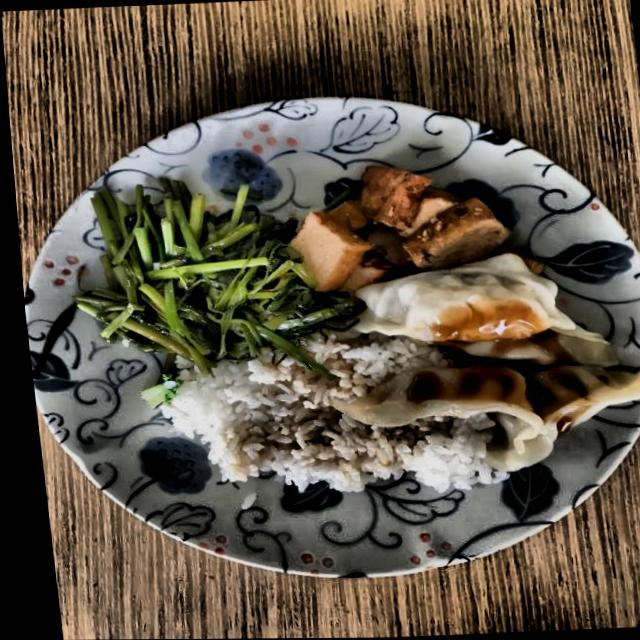Food: (370, 273, 602, 431), (99, 216, 290, 343), (195, 370, 357, 484)
